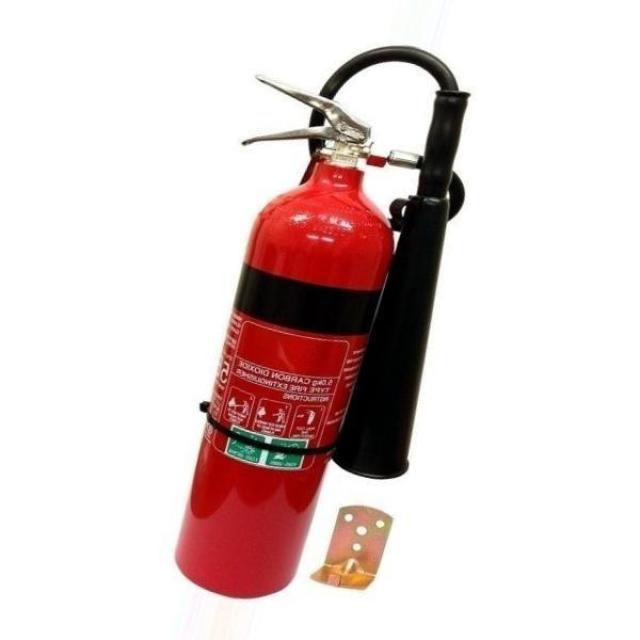fire_extinguisher: (167, 41, 470, 602)
